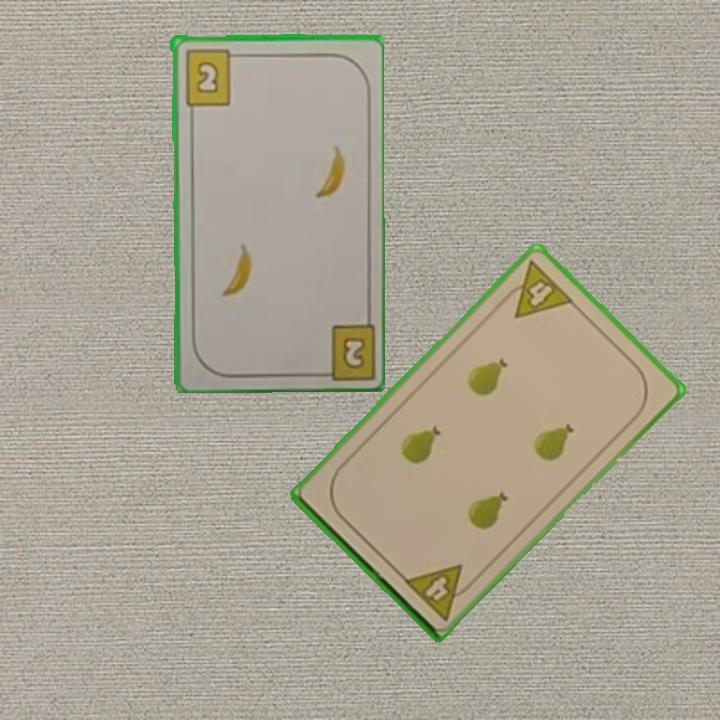2b: (310, 318, 375, 379), (181, 46, 242, 107)
4p: (496, 256, 577, 321), (399, 560, 478, 623)
